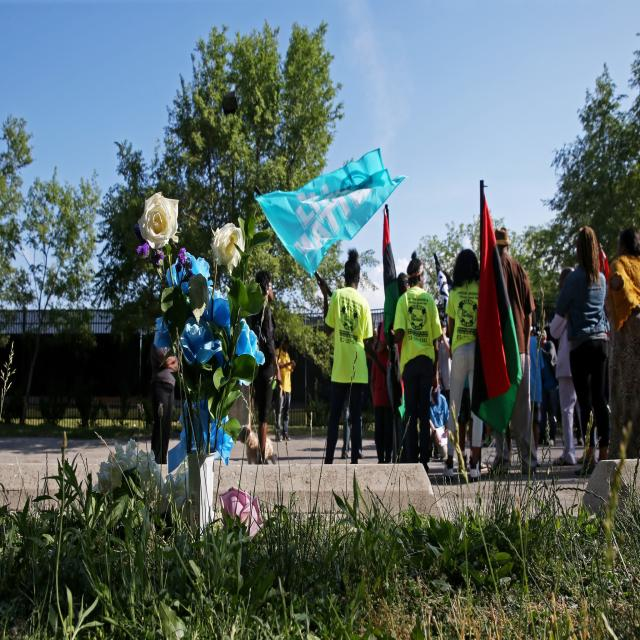body: (553, 222, 614, 484), (316, 245, 374, 467), (488, 226, 538, 478), (388, 251, 442, 474), (444, 248, 482, 479), (603, 227, 640, 460), (548, 265, 584, 466), (249, 268, 283, 466), (150, 342, 180, 466), (369, 337, 394, 464), (528, 309, 546, 469), (535, 328, 558, 448), (274, 334, 296, 443), (548, 388, 584, 448), (436, 319, 454, 412), (429, 383, 450, 462), (340, 405, 364, 460), (396, 271, 411, 299), (373, 320, 382, 349), (534, 329, 543, 339)
